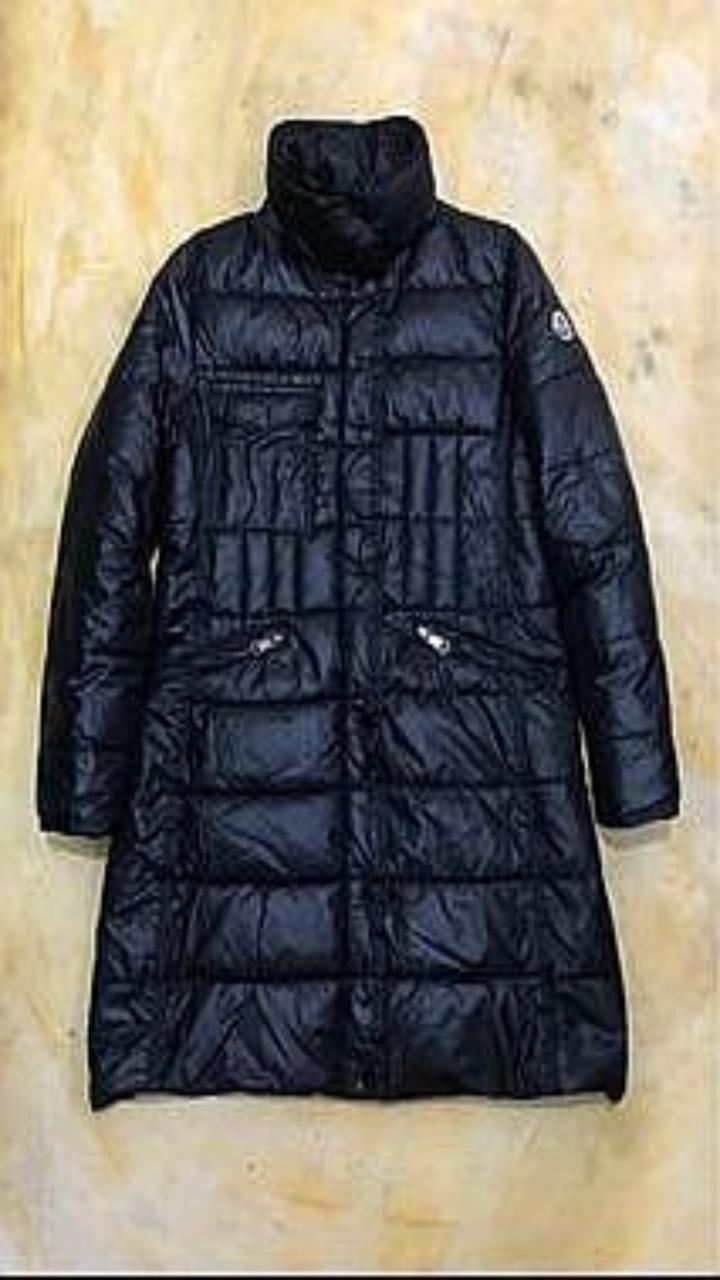Coat: (36, 114, 679, 1108)
